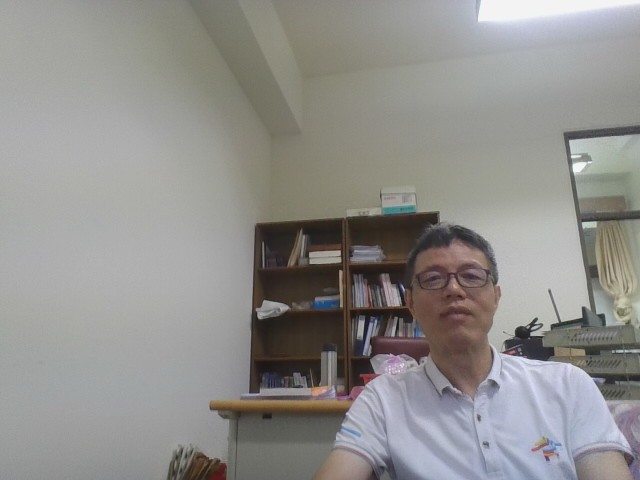No_Helmet: (400, 218, 505, 367)
person: (276, 203, 640, 480)
